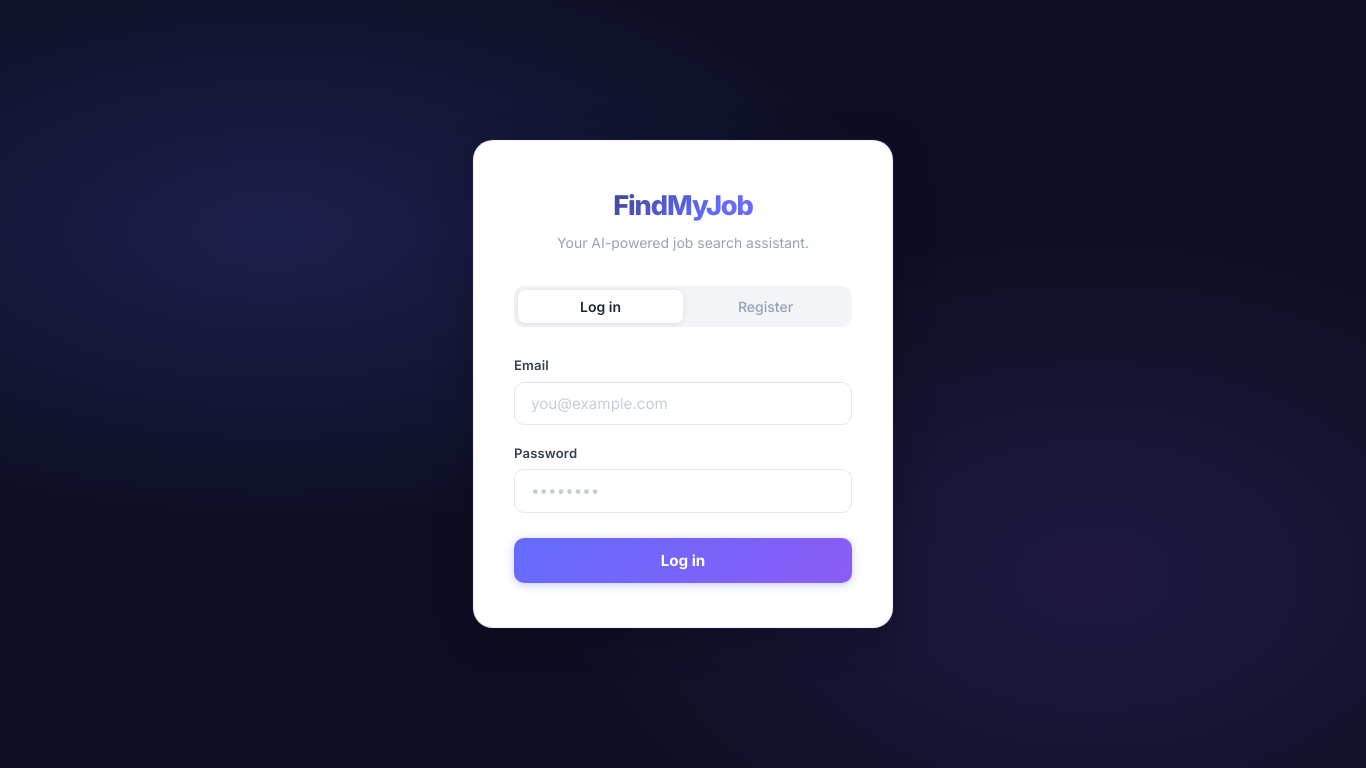
Test: AuthPage › afișează eroare de rețea când fetch aruncă excepție
This screenshot has width=1366, height=768.
In the field labelled "Email": (683, 403) x1=514 y1=382 x2=852 y2=425, type "a@b.com"
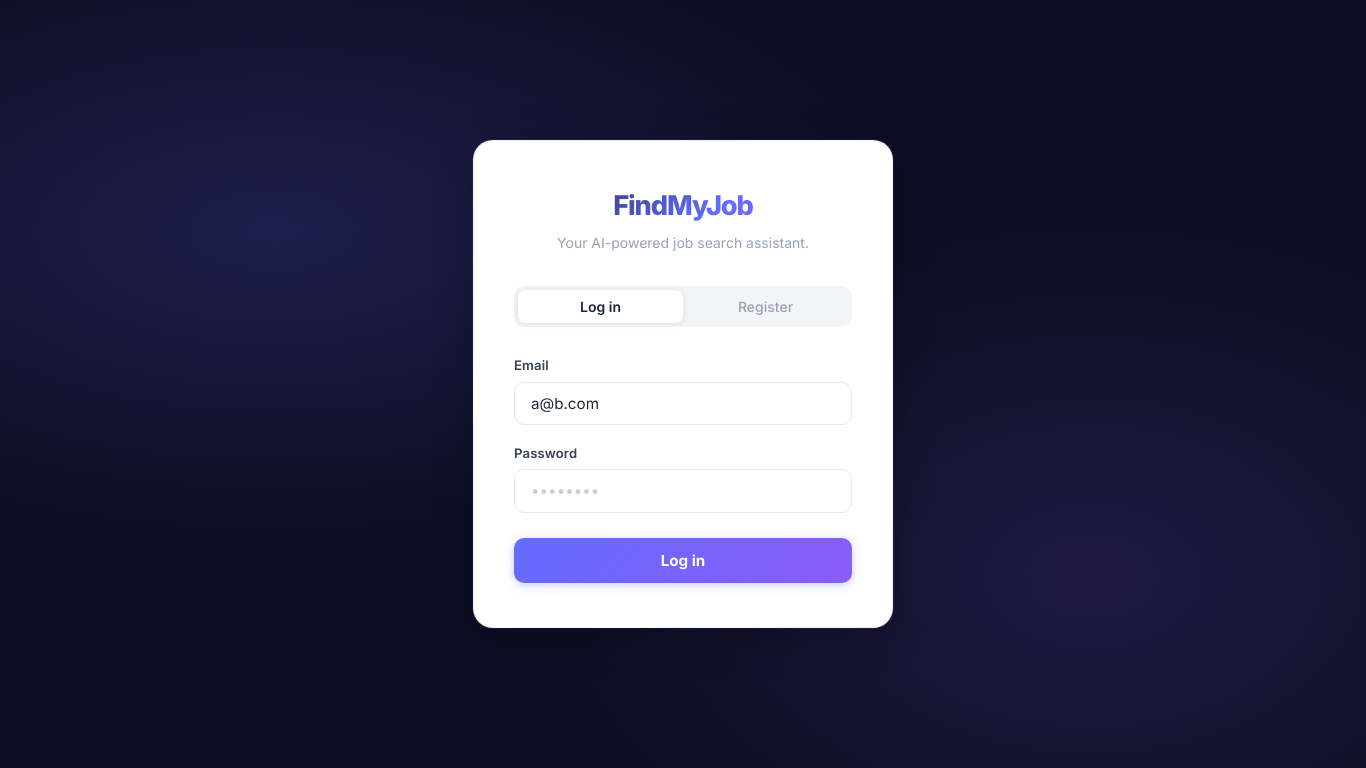
In the password field labelled "Password": (683, 491) x1=514 y1=469 x2=852 y2=513, type "pass"
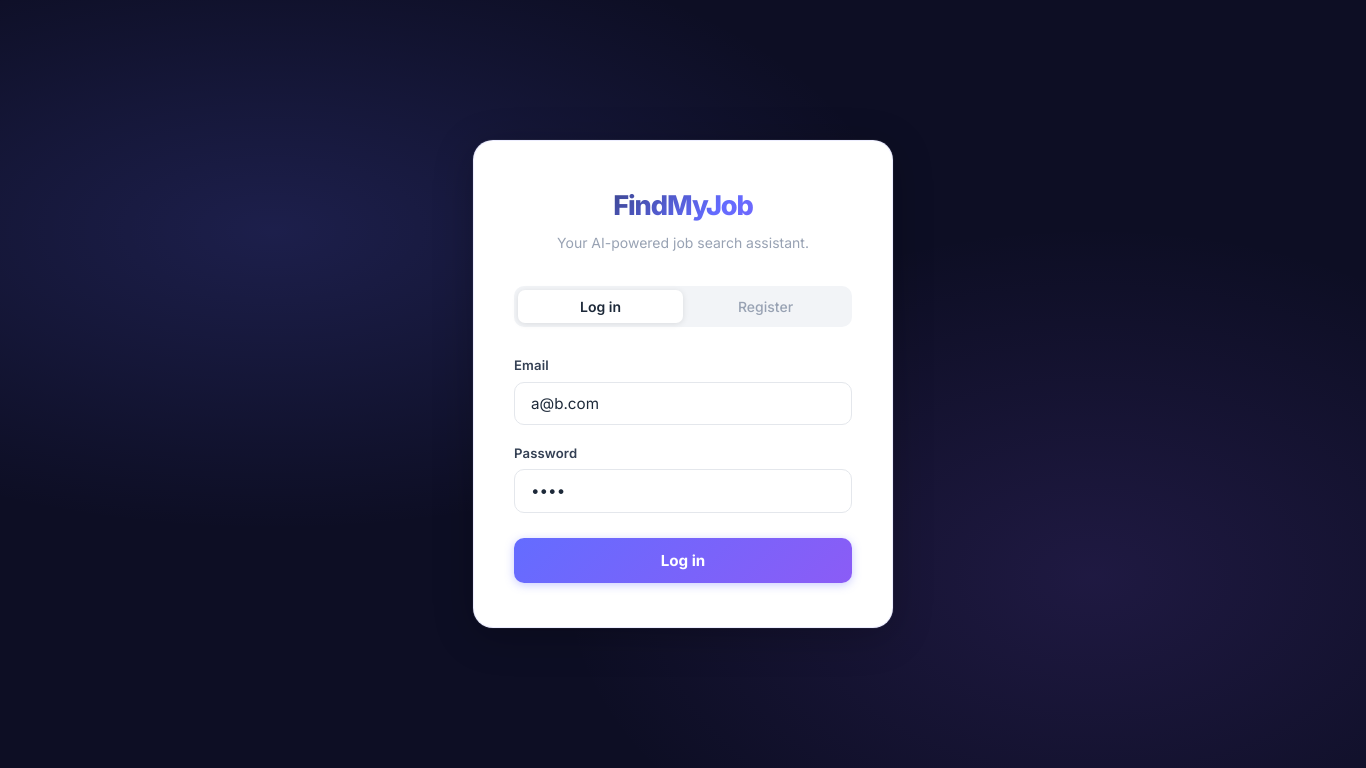
Click the button "Log in" below "Password": click(683, 560) x1=514 y1=538 x2=852 y2=583
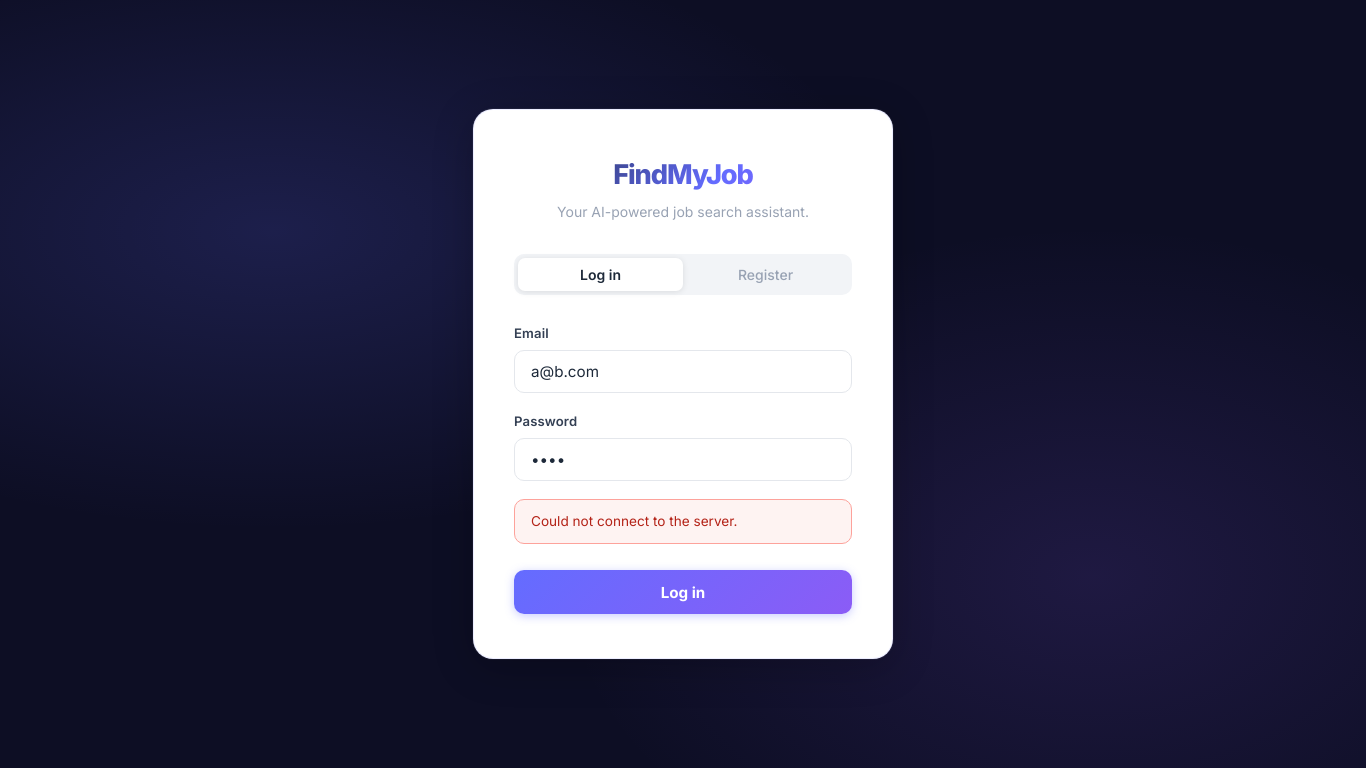
Now the text "Could not connect to the server." is shown, box x1=514 y1=499 x2=852 y2=544
